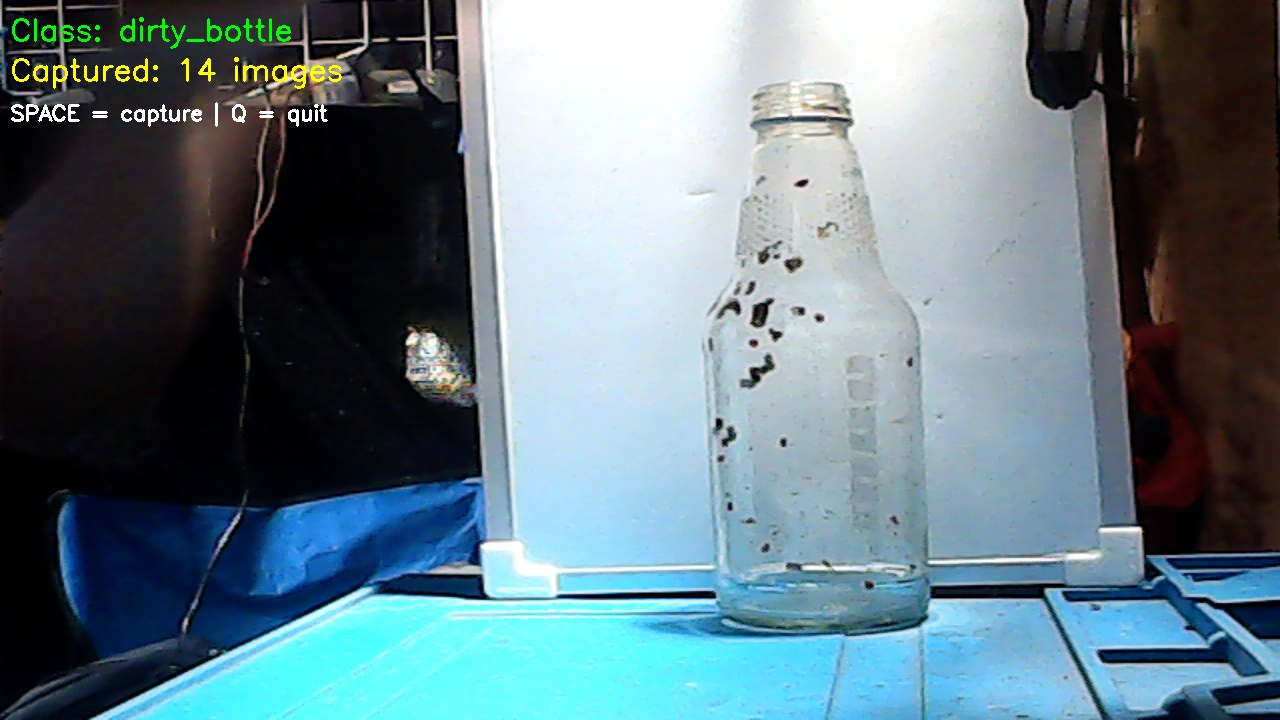dirty_bottle: (703, 88, 936, 645)
